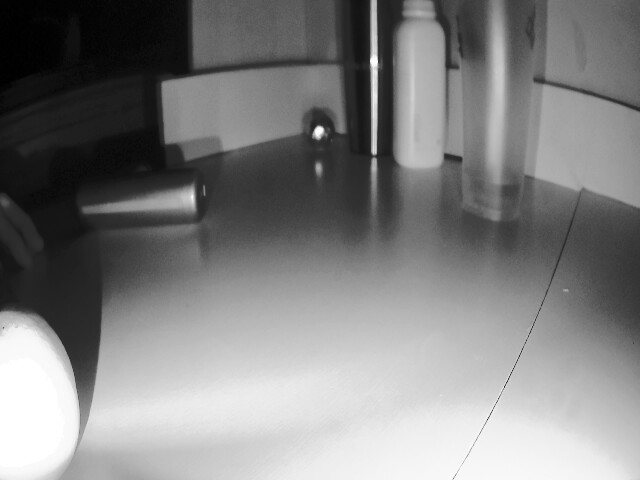black: (305, 116, 336, 147)
